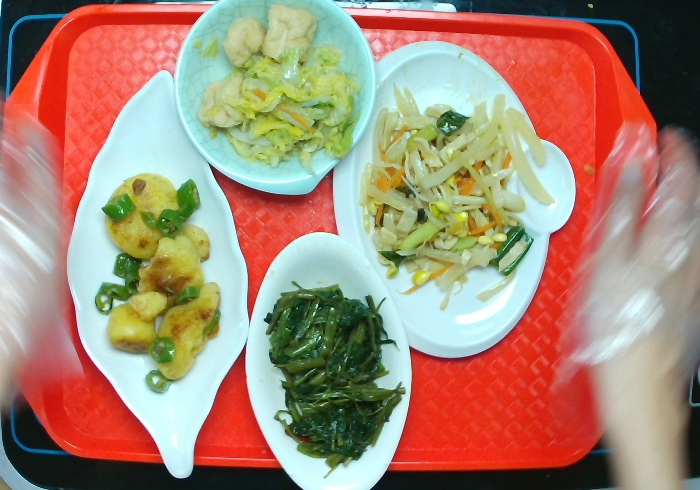RJxy-Bai_Se_Tuo_Yuan: (246, 223, 413, 490)
RJxy-Shu_Ye_Pan: (66, 64, 251, 490)
RJxy-Xiao_Jiao_Yuan_Wan: (168, 1, 390, 208)
RJxy-Zhan_Liao_Pan: (331, 36, 574, 373)
